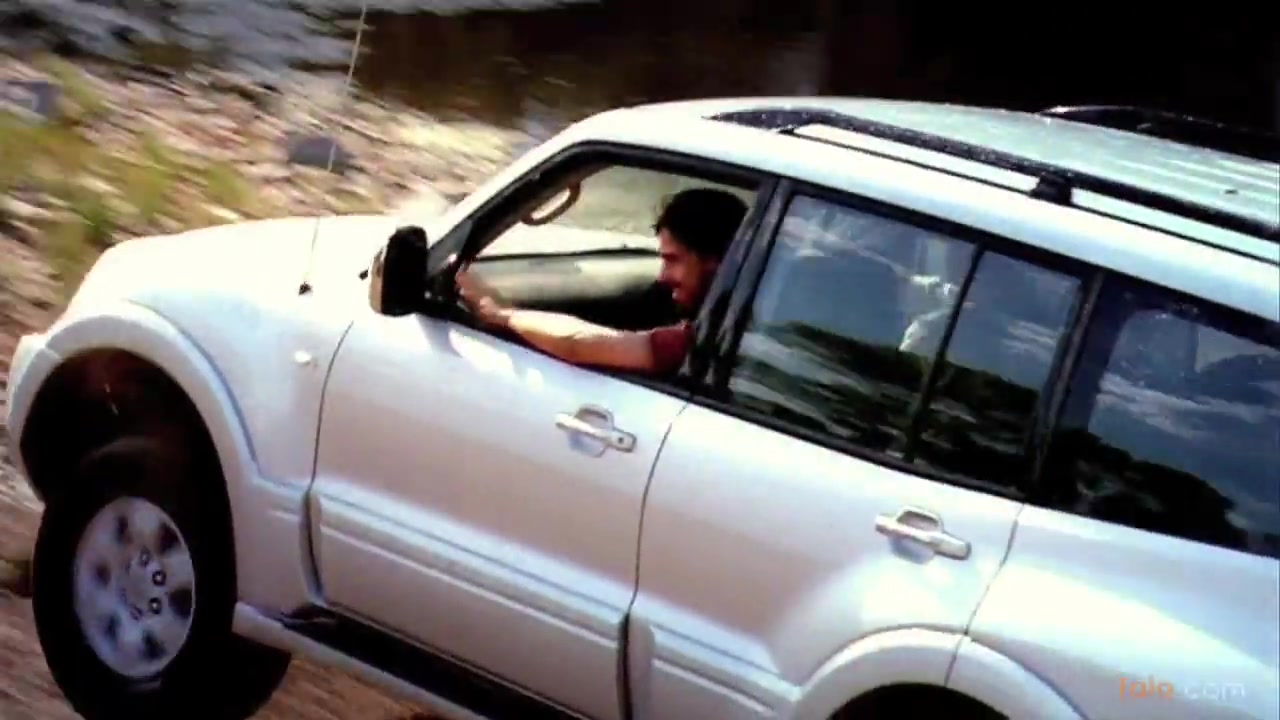car: (1, 94, 1280, 720)
